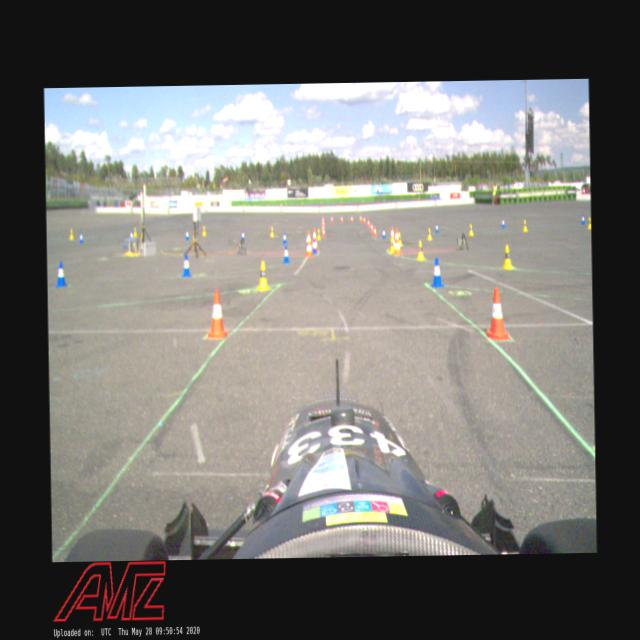blue_cone: (54, 260, 68, 288), (429, 257, 442, 287), (179, 253, 191, 278), (282, 243, 290, 264), (580, 212, 586, 225), (240, 230, 246, 242), (434, 222, 440, 234), (184, 229, 190, 241), (78, 230, 83, 243), (501, 216, 506, 228), (282, 230, 286, 243), (312, 240, 316, 253), (382, 228, 386, 238)
large_orange_cone: (305, 230, 313, 256), (393, 227, 400, 256), (310, 228, 318, 252), (388, 225, 394, 247)
orange_cone: (483, 288, 508, 339), (206, 288, 229, 338), (369, 222, 374, 232), (322, 228, 326, 238), (358, 214, 362, 222), (373, 226, 376, 236), (349, 215, 353, 222), (366, 218, 369, 227), (362, 214, 365, 223), (340, 215, 343, 222), (330, 215, 333, 222)
yellow_cone: (256, 260, 270, 292), (502, 243, 514, 270), (416, 239, 425, 259), (388, 236, 394, 254), (468, 222, 474, 236), (522, 218, 528, 231), (68, 227, 74, 240), (427, 226, 432, 240), (269, 226, 274, 238), (201, 225, 206, 237), (316, 230, 321, 240), (588, 217, 590, 230)
